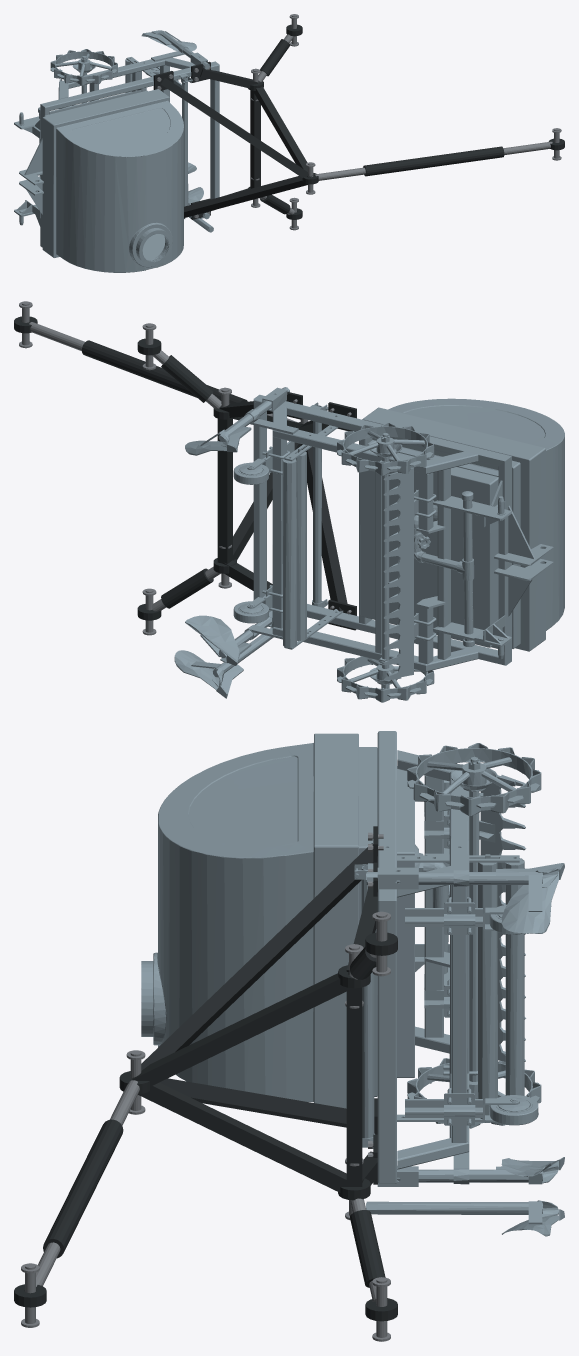
Rendered from implement_mulch_planter_visual.obj.
3 views of the same model, one above another, from view 1: azimuth 30°, elevation 25°; view 2: azimuth 150°, elevation 25°; view 3: azimuth 270°, elevation 25° (orthographic). The views are drawn at different scales.
Visible parts, largest first — view 1: solid_82, hitch_top_link_sleeve, hitch_receiver_member_5, solid_131, hitch_receiver_member_6, solid_21, solid_8, hitch_receiver_member_1, hitch_receiver_member_0, hitch_top_link_rod, solid_24, solid_165 (+3 smaller); view 2: solid_82, solid_47, solid_131, solid_74, solid_4, solid_21, solid_8, solid_110, solid_29, hitch_receiver_member_0, solid_77, solid_7 (+26 smaller); view 3: solid_82, hitch_receiver_member_5, solid_131, solid_8, hitch_receiver_member_1, hitch_receiver_member_2, solid_77, solid_74, hitch_receiver_member_6, hitch_receiver_member_0, solid_29, hitch_top_link_sleeve (+21 smaller).
Part boxes in pixels (x1=…): solid_82: x1=42, y1=89, x2=183, y2=272; hitch_top_link_sleeve: x1=363, y1=146, x2=504, y2=176; hitch_receiver_member_5: x1=161, y1=78, x2=312, y2=177; solid_131: x1=50, y1=49, x2=117, y2=85; hitch_receiver_member_6: x1=184, y1=176, x2=307, y2=217; solid_21: x1=41, y1=61, x2=219, y2=110; solid_8: x1=210, y1=65, x2=219, y2=199; hitch_receiver_member_1: x1=253, y1=82, x2=314, y2=177; hitch_receiver_member_0: x1=250, y1=90, x2=260, y2=188; hitch_top_link_rod: x1=314, y1=141, x2=552, y2=180; solid_24: x1=60, y1=59, x2=164, y2=88; solid_165: x1=182, y1=76, x2=188, y2=206; solid_82: x1=360, y1=398, x2=564, y2=651; solid_47: x1=388, y1=467, x2=413, y2=676; solid_131: x1=337, y1=422, x2=434, y2=475; solid_74: x1=282, y1=459, x2=296, y2=647; solid_4: x1=437, y1=468, x2=450, y2=659; solid_21: x1=253, y1=394, x2=511, y2=466; solid_8: x1=253, y1=400, x2=266, y2=599; solid_110: x1=337, y1=656, x2=434, y2=702; solid_29: x1=272, y1=437, x2=286, y2=628; hitch_receiver_member_0: x1=217, y1=418, x2=232, y2=563; solid_77: x1=296, y1=452, x2=306, y2=640; solid_7: x1=498, y1=456, x2=511, y2=665; solid_82: x1=141, y1=733, x2=418, y2=1108; hitch_receiver_member_5: x1=130, y1=843, x2=373, y2=1076; solid_131: x1=407, y1=743, x2=541, y2=815; solid_8: x1=377, y1=901, x2=396, y2=1183; hitch_receiver_member_1: x1=132, y1=971, x2=349, y2=1085; hitch_receiver_member_2: x1=138, y1=1080, x2=357, y2=1192; solid_77: x1=478, y1=862, x2=497, y2=1119; solid_74: x1=505, y1=858, x2=524, y2=1095; hitch_receiver_member_6: x1=159, y1=1078, x2=346, y2=1127; hitch_receiver_member_0: x1=346, y1=987, x2=362, y2=1186; solid_29: x1=451, y1=885, x2=467, y2=1142; hitch_top_link_sleeve: x1=43, y1=1119, x2=123, y2=1258.
Bounding box in the file's own units: 2.66 × 1.2 × 1.41.
